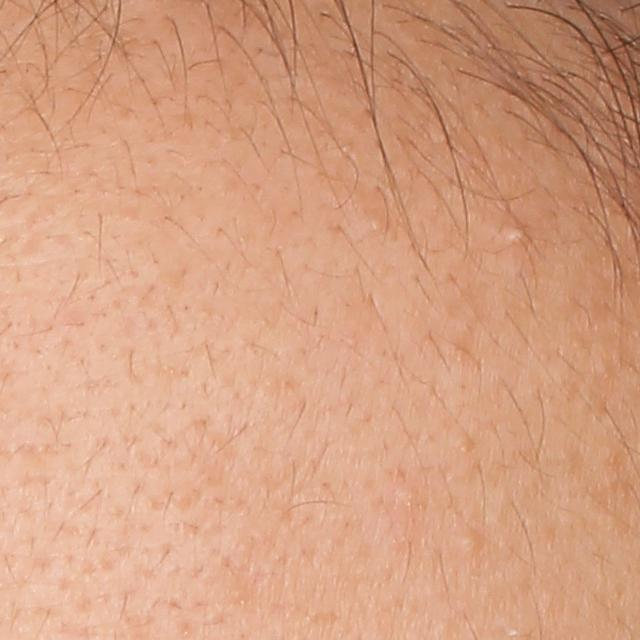comedo: (497, 218, 532, 251), (457, 531, 485, 561), (364, 212, 389, 238)
